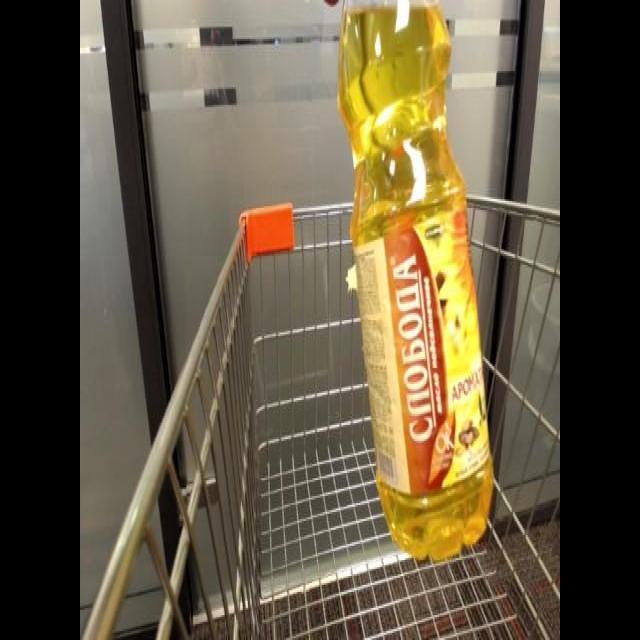Oil: (330, 1, 500, 566)
